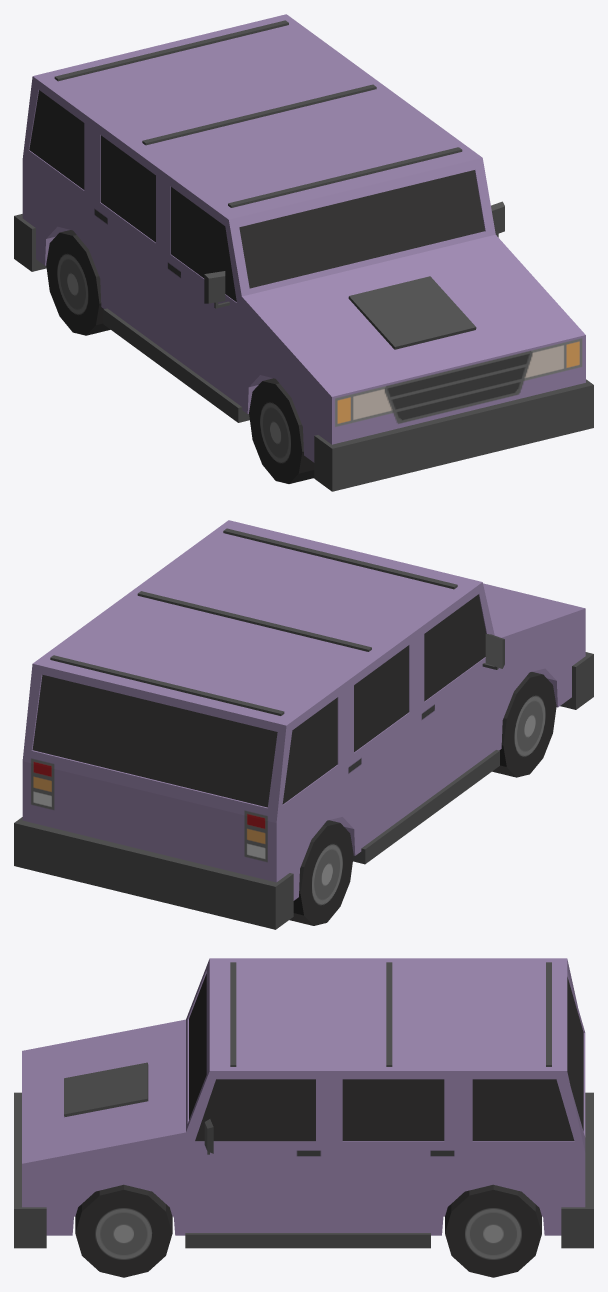
File: suv_v2.gltf
3 views of the same model, one above another, from view 1: azimuth 30°, elevation 25°; view 2: azimuth 150°, elevation 25°; view 3: azimuth 270°, elevation 25° (orthographic). The views are drawn at different scales.
Parts seen in each view (by area): view 1: suv_v2; view 2: suv_v2; view 3: suv_v2.
Part boxes in pixels (x1,y1,x2,y2): suv_v2: [14, 14, 593, 491]; suv_v2: [14, 520, 593, 929]; suv_v2: [14, 958, 593, 1277].
Size of the model in its own units: 3.1 by 2.27 by 5.73.
Materials: 1 (1 with a texture image).
